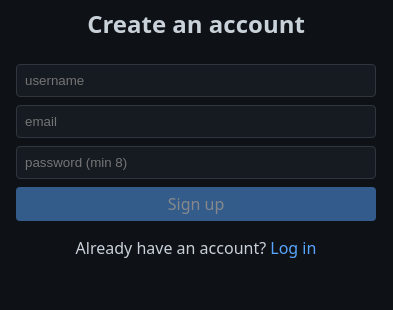
Test: SignupPage › on failure, renders the error and does not navigate
In the field with placeholder "username": (196, 80) [16, 64, 376, 97], type "alice"
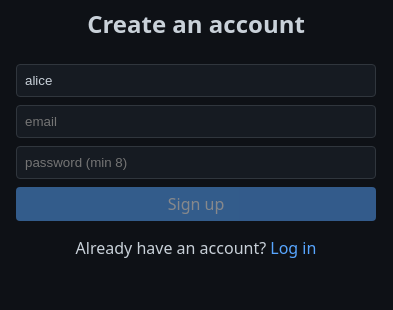
In the field with placeholder "email": (196, 122) [16, 105, 376, 138], type "a@example.com"
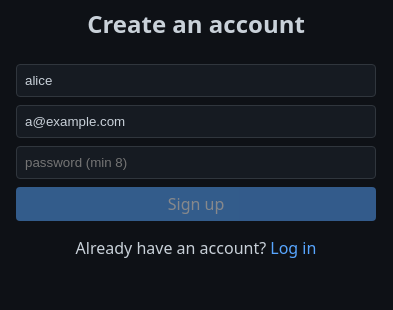
In the password field with placeholder "password (min 8)": (196, 162) [16, 146, 376, 179], type "password1"
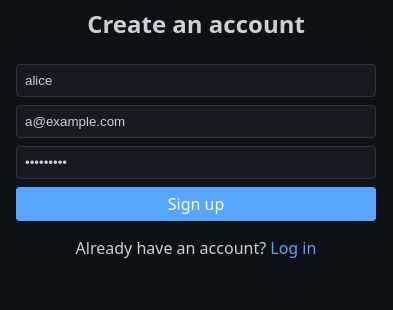
Click the button "Sign up": (196, 204) [16, 187, 376, 221]
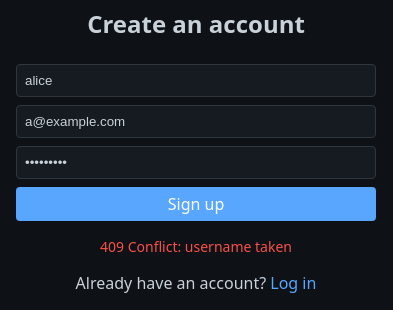
expect the text "409 Conflict: username taken" is shown: met, box [100, 237, 292, 256]
